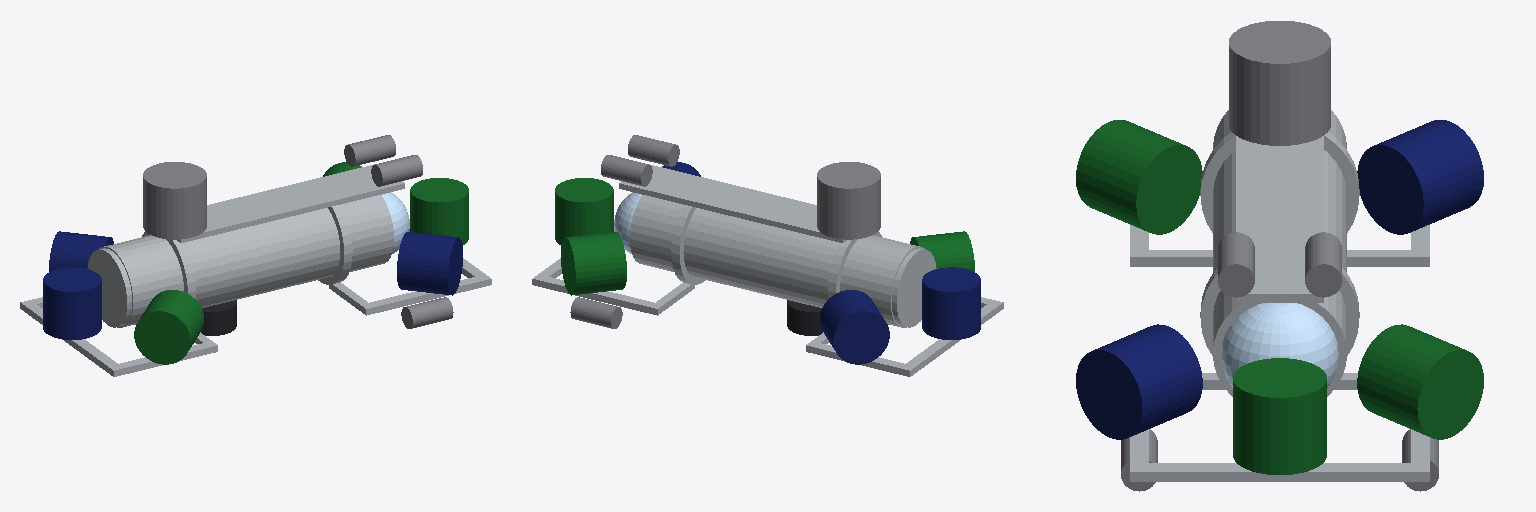
The robot description file, URDF, robot "hauv":
<?xml version="1.0"?>
<!-- 5-inch hull, GENERATED by Enclosure/model/gen_urdf.py and then TRIMMED for
     Gazebo. The generator does not emit usable Gazebo physics; without the four
     edits below the vehicle sinks 4.2 kg negative, is nearly immovable, is
     rolling-unstable, and produces exactly zero forward thrust.
       1. base_link <volume> 0.008157 -> 0.012338 m3  (+0.1 kg positive at 13.610 kg)
       2. <center_of_volume> -0.02525 0 0 -> -0.04928 0 0.04413  (above and in line with CG)
       3. <velocity_decay> 0.20/0.30 -> 0.006/0.02  (Gazebo applies it per STEP)
       4. rear thruster yaw -+45 deg -> +-135 deg   (else forward thrust cancels)
     Re-derive these if the hull changes; do not copy the 4-inch numbers. -->
<!-- GENERATED by gen_urdf.py - edit PARAMS there, not this file.
     Gazebo Classic 11 (ROS2 Foxy). BR 5" series, 500 mm tube.
     buoyancy + thrust are real plugins; hydrodynamics is NOT - velocity_decay
     is crude isotropic damping, not added mass or quadratic drag. -->
<robot name="hauv">
  <material name="alu"><color rgba="0.72 0.74 0.76 1.00"/></material>
  <material name="acrylic"><color rgba="0.80 0.90 1.00 0.35"/></material>
  <material name="cw_green"><color rgba="0.13 0.45 0.20 1.00"/></material>
  <material name="ccw_blue"><color rgba="0.13 0.18 0.45 1.00"/></material>
  <material name="lightblue"><color rgba="0.45 0.70 0.90 1.00"/></material>
  <material name="pcb_green"><color rgba="0.10 0.35 0.15 1.00"/></material>
  <material name="dark"><color rgba="0.20 0.20 0.22 1.00"/></material>
  <material name="grey"><color rgba="0.55 0.55 0.58 1.00"/></material>

  <link name="base_link">
    <visual><origin xyz="-0.02525 0.00000 0.00000" rpy="0.000000 1.570796 0.000000"/>
      <geometry><cylinder radius="0.06935" length="0.50000"/></geometry>
      <material name="alu"/></visual>
    <visual><origin xyz="-0.28025 0.00000 0.00000" rpy="0.000000 1.570796 0.000000"/>
      <geometry><cylinder radius="0.06650" length="0.01000"/></geometry>
      <material name="alu"/></visual>
    <visual><origin xyz="-0.26425 0.00000 0.00000" rpy="0.000000 1.570796 0.000000"/>
      <geometry><cylinder radius="0.06480" length="0.02200"/></geometry>
      <material name="alu"/></visual>
    <visual><origin xyz="0.22475 0.00000 0.00000" rpy="0.000000 0.000000 0.000000"/>
      <geometry><sphere radius="0.06050"/></geometry>
      <material name="acrylic"/></visual>
    <visual><origin xyz="-0.17000 0.00000 0.00000" rpy="0.000000 1.570796 0.000000"/>
      <geometry><cylinder radius="0.08200" length="0.01600"/></geometry>
      <material name="alu"/></visual>
    <visual><origin xyz="0.13000 0.00000 0.00000" rpy="0.000000 1.570796 0.000000"/>
      <geometry><cylinder radius="0.08200" length="0.01600"/></geometry>
      <material name="alu"/></visual>
    <visual><origin xyz="0.24100 0.14500 -0.07600" rpy="0.000000 0.000000 0.000000"/>
      <geometry><box size="0.22200 0.02000 0.01200"/></geometry>
      <material name="alu"/></visual>
    <visual><origin xyz="-0.26100 0.14500 -0.07600" rpy="0.000000 0.000000 0.000000"/>
      <geometry><box size="0.18200 0.02000 0.01200"/></geometry>
      <material name="alu"/></visual>
    <visual><origin xyz="-0.17000 0.09250 -0.07600" rpy="0.000000 0.000000 0.000000"/>
      <geometry><box size="0.01600 0.12500 0.01200"/></geometry>
      <material name="alu"/></visual>
    <visual><origin xyz="0.13000 0.09250 -0.07600" rpy="0.000000 0.000000 0.000000"/>
      <geometry><box size="0.01600 0.12500 0.01200"/></geometry>
      <material name="alu"/></visual>
    <visual><origin xyz="0.24100 -0.14500 -0.07600" rpy="0.000000 0.000000 0.000000"/>
      <geometry><box size="0.22200 0.02000 0.01200"/></geometry>
      <material name="alu"/></visual>
    <visual><origin xyz="-0.26100 -0.14500 -0.07600" rpy="0.000000 0.000000 0.000000"/>
      <geometry><box size="0.18200 0.02000 0.01200"/></geometry>
      <material name="alu"/></visual>
    <visual><origin xyz="-0.17000 -0.09250 -0.07600" rpy="0.000000 0.000000 0.000000"/>
      <geometry><box size="0.01600 0.12500 0.01200"/></geometry>
      <material name="alu"/></visual>
    <visual><origin xyz="0.13000 -0.09250 -0.07600" rpy="0.000000 0.000000 0.000000"/>
      <geometry><box size="0.01600 0.12500 0.01200"/></geometry>
      <material name="alu"/></visual>
    <visual><origin xyz="0.35200 0.00000 -0.07600" rpy="0.000000 0.000000 0.000000"/>
      <geometry><box size="0.02000 0.31000 0.01200"/></geometry>
      <material name="alu"/></visual>
    <visual><origin xyz="-0.35200 0.00000 -0.07600" rpy="0.000000 0.000000 0.000000"/>
      <geometry><box size="0.02000 0.31000 0.01200"/></geometry>
      <material name="alu"/></visual>
    <visual><origin xyz="0.04500 0.00000 0.07900" rpy="0.000000 0.000000 0.000000"/>
      <geometry><box size="0.43000 0.09000 0.01000"/></geometry>
      <material name="alu"/></visual>
    <visual><origin xyz="-0.02625 0.00000 -0.04000" rpy="0.000000 0.000000 0.000000"/>
      <geometry><box size="0.45400 0.09600 0.00400"/></geometry>
      <material name="alu"/></visual>
    <visual><origin xyz="-0.18710 0.00000 -0.00995" rpy="0.000000 0.000000 0.000000"/>
      <geometry><box size="0.11630 0.08580 0.05610"/></geometry>
      <material name="dark"/></visual>
    <visual><origin xyz="-0.06395 0.00000 -0.03200" rpy="0.000000 0.000000 0.000000"/>
      <geometry><box size="0.11000 0.07000 0.01200"/></geometry>
      <material name="pcb_green"/></visual>
    <visual><origin xyz="0.04355 0.00000 -0.02900" rpy="0.000000 0.000000 0.000000"/>
      <geometry><box size="0.08500 0.05600 0.01800"/></geometry>
      <material name="pcb_green"/></visual>
    <visual><origin xyz="0.12205 0.00000 -0.03070" rpy="0.000000 0.000000 0.000000"/>
      <geometry><box size="0.05200 0.02800 0.01460"/></geometry>
      <material name="pcb_green"/></visual>
    <visual><origin xyz="-0.15525 0.00000 0.02810" rpy="0.000000 0.000000 0.000000"/>
      <geometry><box size="0.18000 0.06500 0.02000"/></geometry>
      <material name="lightblue"/></visual>
    <visual><origin xyz="0.05225 0.00000 0.02810" rpy="0.000000 0.000000 0.000000"/>
      <geometry><box size="0.13500 0.06500 0.02000"/></geometry>
      <material name="lightblue"/></visual>
    <visual><origin xyz="-0.15525 0.00000 0.13070" rpy="0.000000 0.000000 0.000000"/>
      <geometry><cylinder radius="0.05300" length="0.09340"/></geometry>
      <material name="grey"/></visual>
    <visual><origin xyz="-0.08525 0.00000 -0.09215" rpy="0.000000 0.000000 0.000000"/>
      <geometry><cylinder radius="0.04185" length="0.04430"/></geometry>
      <material name="dark"/></visual>
    <visual><origin xyz="0.24500 0.14500 -0.11000" rpy="0.000000 1.570796 0.000000"/>
      <geometry><cylinder radius="0.01900" length="0.07800"/></geometry>
      <material name="grey"/></visual>
    <visual><origin xyz="0.24500 0.04500 0.11060" rpy="0.000000 1.570796 0.000000"/>
      <geometry><cylinder radius="0.01900" length="0.07800"/></geometry>
      <material name="grey"/></visual>
    <visual><origin xyz="0.24500 -0.14500 -0.11000" rpy="0.000000 1.570796 0.000000"/>
      <geometry><cylinder radius="0.01900" length="0.07800"/></geometry>
      <material name="grey"/></visual>
    <visual><origin xyz="0.24500 -0.04500 0.11060" rpy="0.000000 1.570796 0.000000"/>
      <geometry><cylinder radius="0.01900" length="0.07800"/></geometry>
      <material name="grey"/></visual>
    <collision><origin xyz="-0.02525 0 0" rpy="0 1.570796 0"/>
      <geometry><cylinder radius="0.06935" length="0.50000"/></geometry></collision>
    <collision><origin xyz="0 0 -0.07600" rpy="0 0 0"/>
      <geometry><box size="0.70400 0.31000 0.01200"/></geometry></collision>
    <inertial>
      <origin xyz="-0.04928 0.00000 0.01113" rpy="0 0 0"/>
      <mass value="11.546"/>
      <inertia ixx="0.097617" ixy="0.000000" ixz="0.014928" iyy="0.430519" iyz="-0.000000" izz="0.406663"/>
    </inertial>
  </link>

  <gazebo reference="base_link">
    <material>Gazebo/Grey</material>
    <velocity_decay><linear>0.006</linear><angular>0.02</angular></velocity_decay>
  </gazebo>

  <link name="t1_front_left">
    <visual><geometry><cylinder radius="0.04865" length="0.08800"/></geometry>
      <material name="cw_green"/></visual>
    <collision><geometry><cylinder radius="0.04865" length="0.08800"/></geometry></collision>
    <inertial><mass value="0.344"/>
      <inertia ixx="0.000426" ixy="0" ixz="0" iyy="0.000426" iyz="0" izz="0.000407"/></inertial>
  </link>
  <joint name="t1_front_left_joint" type="continuous">
    <parent link="base_link"/><child link="t1_front_left"/>
    <origin xyz="0.25000 0.14500 -0.02035" rpy="0.000000 1.570796 0.785398"/>
    <axis xyz="0 0 1"/>
    <dynamics damping="0.005" friction="0.0"/>
  </joint>
  <gazebo reference="t1_front_left"><material>Gazebo/Green</material></gazebo>

  <link name="t2_front_right">
    <visual><geometry><cylinder radius="0.04865" length="0.08800"/></geometry>
      <material name="ccw_blue"/></visual>
    <collision><geometry><cylinder radius="0.04865" length="0.08800"/></geometry></collision>
    <inertial><mass value="0.344"/>
      <inertia ixx="0.000426" ixy="0" ixz="0" iyy="0.000426" iyz="0" izz="0.000407"/></inertial>
  </link>
  <joint name="t2_front_right_joint" type="continuous">
    <parent link="base_link"/><child link="t2_front_right"/>
    <origin xyz="0.25000 -0.14500 -0.02035" rpy="0.000000 1.570796 -0.785398"/>
    <axis xyz="0 0 1"/>
    <dynamics damping="0.005" friction="0.0"/>
  </joint>
  <gazebo reference="t2_front_right"><material>Gazebo/Blue</material></gazebo>

  <link name="t3_rear_left">
    <visual><geometry><cylinder radius="0.04865" length="0.08800"/></geometry>
      <material name="ccw_blue"/></visual>
    <collision><geometry><cylinder radius="0.04865" length="0.08800"/></geometry></collision>
    <inertial><mass value="0.344"/>
      <inertia ixx="0.000426" ixy="0" ixz="0" iyy="0.000426" iyz="0" izz="0.000407"/></inertial>
  </link>
  <joint name="t3_rear_left_joint" type="continuous">
    <parent link="base_link"/><child link="t3_rear_left"/>
    <origin xyz="-0.25000 0.14500 -0.02035" rpy="0.000000 1.570796 2.356195"/>
    <axis xyz="0 0 1"/>
    <dynamics damping="0.005" friction="0.0"/>
  </joint>
  <gazebo reference="t3_rear_left"><material>Gazebo/Blue</material></gazebo>

  <link name="t4_rear_right">
    <visual><geometry><cylinder radius="0.04865" length="0.08800"/></geometry>
      <material name="cw_green"/></visual>
    <collision><geometry><cylinder radius="0.04865" length="0.08800"/></geometry></collision>
    <inertial><mass value="0.344"/>
      <inertia ixx="0.000426" ixy="0" ixz="0" iyy="0.000426" iyz="0" izz="0.000407"/></inertial>
  </link>
  <joint name="t4_rear_right_joint" type="continuous">
    <parent link="base_link"/><child link="t4_rear_right"/>
    <origin xyz="-0.25000 -0.14500 -0.02035" rpy="0.000000 1.570796 -2.356195"/>
    <axis xyz="0 0 1"/>
    <dynamics damping="0.005" friction="0.0"/>
  </joint>
  <gazebo reference="t4_rear_right"><material>Gazebo/Green</material></gazebo>

  <link name="t5_vert_front">
    <visual><geometry><cylinder radius="0.04865" length="0.08800"/></geometry>
      <material name="cw_green"/></visual>
    <collision><geometry><cylinder radius="0.04865" length="0.08800"/></geometry></collision>
    <inertial><mass value="0.344"/>
      <inertia ixx="0.000426" ixy="0" ixz="0" iyy="0.000426" iyz="0" izz="0.000407"/></inertial>
  </link>
  <joint name="t5_vert_front_joint" type="continuous">
    <parent link="base_link"/><child link="t5_vert_front"/>
    <origin xyz="0.35200 0.00000 -0.01220" rpy="0.000000 0.000000 0.000000"/>
    <axis xyz="0 0 1"/>
    <dynamics damping="0.005" friction="0.0"/>
  </joint>
  <gazebo reference="t5_vert_front"><material>Gazebo/Green</material></gazebo>

  <link name="t6_vert_rear">
    <visual><geometry><cylinder radius="0.04865" length="0.08800"/></geometry>
      <material name="ccw_blue"/></visual>
    <collision><geometry><cylinder radius="0.04865" length="0.08800"/></geometry></collision>
    <inertial><mass value="0.344"/>
      <inertia ixx="0.000426" ixy="0" ixz="0" iyy="0.000426" iyz="0" izz="0.000407"/></inertial>
  </link>
  <joint name="t6_vert_rear_joint" type="continuous">
    <parent link="base_link"/><child link="t6_vert_rear"/>
    <origin xyz="-0.35200 0.00000 -0.01220" rpy="0.000000 0.000000 0.000000"/>
    <axis xyz="0 0 1"/>
    <dynamics damping="0.005" friction="0.0"/>
  </joint>
  <gazebo reference="t6_vert_rear"><material>Gazebo/Blue</material></gazebo>

  <gazebo>
    <plugin name="buoyancy" filename="libBuoyancyPlugin.so">
      <fluid_density>1025</fluid_density>
      <link name="base_link">
        <center_of_volume>-0.04928 0 0.04413</center_of_volume>
        <volume>0.012338</volume>
      </link>
      <link name="t1_front_left"><center_of_volume>0 0 0</center_of_volume><volume>0.000173</volume></link>
      <link name="t2_front_right"><center_of_volume>0 0 0</center_of_volume><volume>0.000173</volume></link>
      <link name="t3_rear_left"><center_of_volume>0 0 0</center_of_volume><volume>0.000173</volume></link>
      <link name="t4_rear_right"><center_of_volume>0 0 0</center_of_volume><volume>0.000173</volume></link>
      <link name="t5_vert_front"><center_of_volume>0 0 0</center_of_volume><volume>0.000173</volume></link>
      <link name="t6_vert_rear"><center_of_volume>0 0 0</center_of_volume><volume>0.000173</volume></link>
    </plugin>
  </gazebo>

  <gazebo>
    <plugin name="t1_force" filename="libgazebo_ros_force.so">
      <ros><namespace>/hauv</namespace><remapping>gazebo_ros_force:=thruster/t1</remapping></ros>
      <link_name>t1_front_left</link_name><force_frame>link</force_frame>
    </plugin>
  </gazebo>
  <gazebo>
    <plugin name="t2_force" filename="libgazebo_ros_force.so">
      <ros><namespace>/hauv</namespace><remapping>gazebo_ros_force:=thruster/t2</remapping></ros>
      <link_name>t2_front_right</link_name><force_frame>link</force_frame>
    </plugin>
  </gazebo>
  <gazebo>
    <plugin name="t3_force" filename="libgazebo_ros_force.so">
      <ros><namespace>/hauv</namespace><remapping>gazebo_ros_force:=thruster/t3</remapping></ros>
      <link_name>t3_rear_left</link_name><force_frame>link</force_frame>
    </plugin>
  </gazebo>
  <gazebo>
    <plugin name="t4_force" filename="libgazebo_ros_force.so">
      <ros><namespace>/hauv</namespace><remapping>gazebo_ros_force:=thruster/t4</remapping></ros>
      <link_name>t4_rear_right</link_name><force_frame>link</force_frame>
    </plugin>
  </gazebo>
  <gazebo>
    <plugin name="t5_force" filename="libgazebo_ros_force.so">
      <ros><namespace>/hauv</namespace><remapping>gazebo_ros_force:=thruster/t5</remapping></ros>
      <link_name>t5_vert_front</link_name><force_frame>link</force_frame>
    </plugin>
  </gazebo>
  <gazebo>
    <plugin name="t6_force" filename="libgazebo_ros_force.so">
      <ros><namespace>/hauv</namespace><remapping>gazebo_ros_force:=thruster/t6</remapping></ros>
      <link_name>t6_vert_rear</link_name><force_frame>link</force_frame>
    </plugin>
  </gazebo>

  <link name="imu_link"/>
  <joint name="imu_joint" type="fixed">
    <parent link="base_link"/><child link="imu_link"/>
    <origin xyz="0 0 0" rpy="0 0 0"/></joint>
  <gazebo reference="imu_link">
    <sensor name="bno055" type="imu"><always_on>true</always_on>
      <update_rate>50</update_rate>
      <plugin name="imu_plugin" filename="libgazebo_ros_imu_sensor.so">
        <ros><namespace>/hauv</namespace><remapping>~/out:=imu</remapping></ros>
      </plugin></sensor></gazebo>
  <link name="camera_link"/>
  <joint name="camera_joint" type="fixed">
    <parent link="base_link"/><child link="camera_link"/>
    <origin xyz="0.22475 0 0" rpy="0 0 0"/></joint>
  <gazebo reference="camera_link">
    <sensor name="fwd_camera" type="camera"><always_on>true</always_on>
      <update_rate>15</update_rate>
      <camera><horizontal_fov>1.396</horizontal_fov>
        <image><width>640</width><height>480</height></image>
        <clip><near>0.05</near><far>30</far></clip></camera>
      <plugin name="camera_plugin" filename="libgazebo_ros_camera.so">
        <ros><namespace>/hauv</namespace></ros>
      </plugin></sensor></gazebo>
  <link name="dvl_link"/>
  <joint name="dvl_joint" type="fixed">
    <parent link="base_link"/><child link="dvl_link"/>
    <origin xyz="-0.08525 0 -0.11430" rpy="0 0 0"/></joint>
</robot>

--- Render facts (derived) ---
Views: 3 orthographic renders of the robot side by side, from view 1: azimuth 30°, elevation 25°; view 2: azimuth 150°, elevation 25°; view 3: azimuth 270°, elevation 25°.
Model hauv with 10 links and 9 joints (6 continuous, 3 fixed), rooted at base_link, posed every joint at zero.
Links seen in each view (by area): view 1: base_link, t6_vert_rear, t4_rear_right, t2_front_right, t5_vert_front, t3_rear_left; view 2: base_link, t6_vert_rear, t3_rear_left, t1_front_left, t5_vert_front, t4_rear_right; view 3: base_link, t1_front_left, t2_front_right, t3_rear_left, t4_rear_right, t5_vert_front.
Link boxes in pixels (x1=…): base_link: x1=20, y1=135, x2=491, y2=376; t6_vert_rear: x1=43, y1=267, x2=101, y2=339; t4_rear_right: x1=134, y1=290, x2=203, y2=364; t2_front_right: x1=397, y1=232, x2=462, y2=295; t5_vert_front: x1=410, y1=178, x2=468, y2=244; t3_rear_left: x1=49, y1=231, x2=113, y2=271; base_link: x1=532, y1=135, x2=1003, y2=376; t6_vert_rear: x1=922, y1=267, x2=980, y2=339; t3_rear_left: x1=820, y1=290, x2=889, y2=364; t1_front_left: x1=561, y1=232, x2=626, y2=295; t5_vert_front: x1=555, y1=178, x2=613, y2=244; t4_rear_right: x1=910, y1=231, x2=974, y2=271; base_link: x1=1121, y1=21, x2=1438, y2=491; t1_front_left: x1=1357, y1=324, x2=1483, y2=439; t2_front_right: x1=1076, y1=324, x2=1202, y2=439; t3_rear_left: x1=1357, y1=120, x2=1483, y2=234; t4_rear_right: x1=1076, y1=120, x2=1202, y2=234; t5_vert_front: x1=1233, y1=358, x2=1326, y2=474.
Bounding box of the posed robot: 0.8013 × 0.421 × 0.3064 m (x, y, z).
Geometry: primitives only (box / cylinder / sphere), no mesh files.
